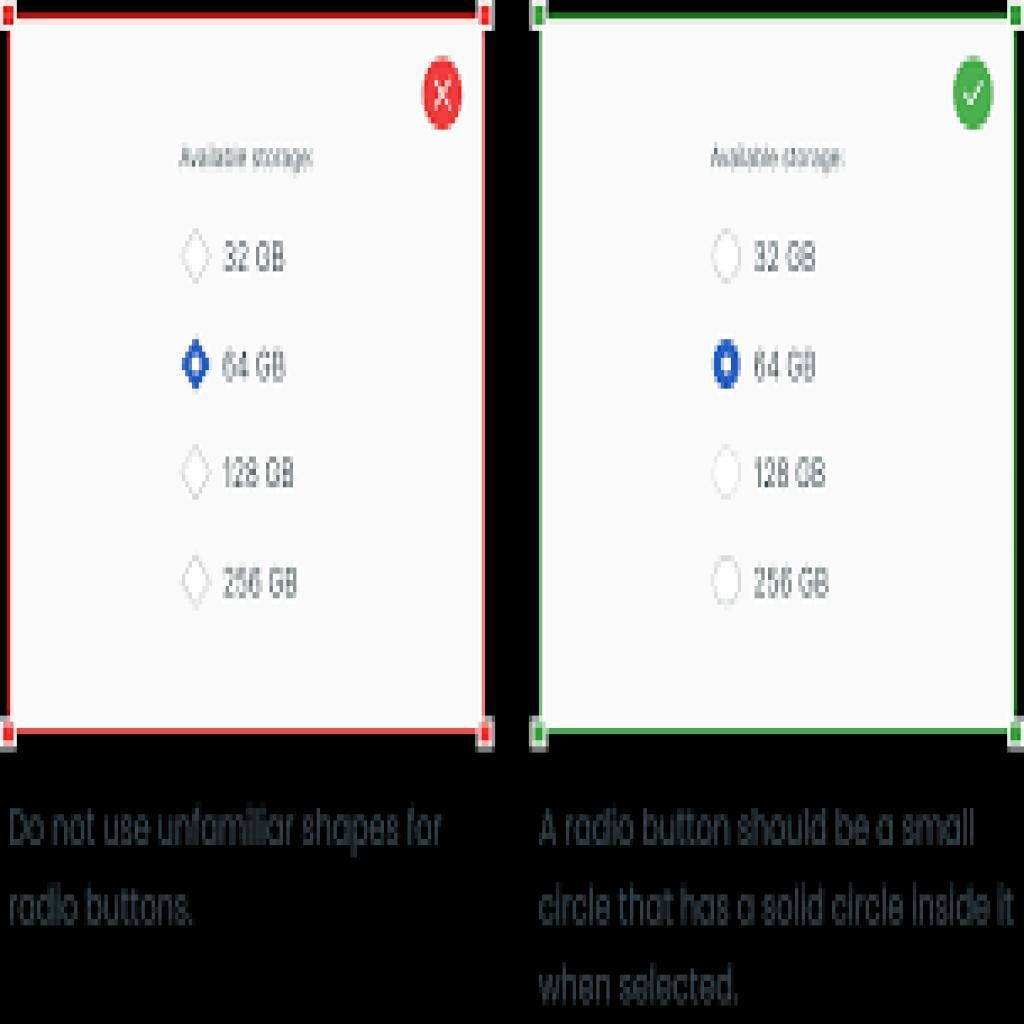radio: (709, 556, 748, 609), (712, 336, 746, 393), (710, 448, 744, 502), (179, 338, 211, 395), (711, 231, 742, 285), (181, 447, 213, 499), (183, 555, 211, 612), (183, 231, 210, 281)
